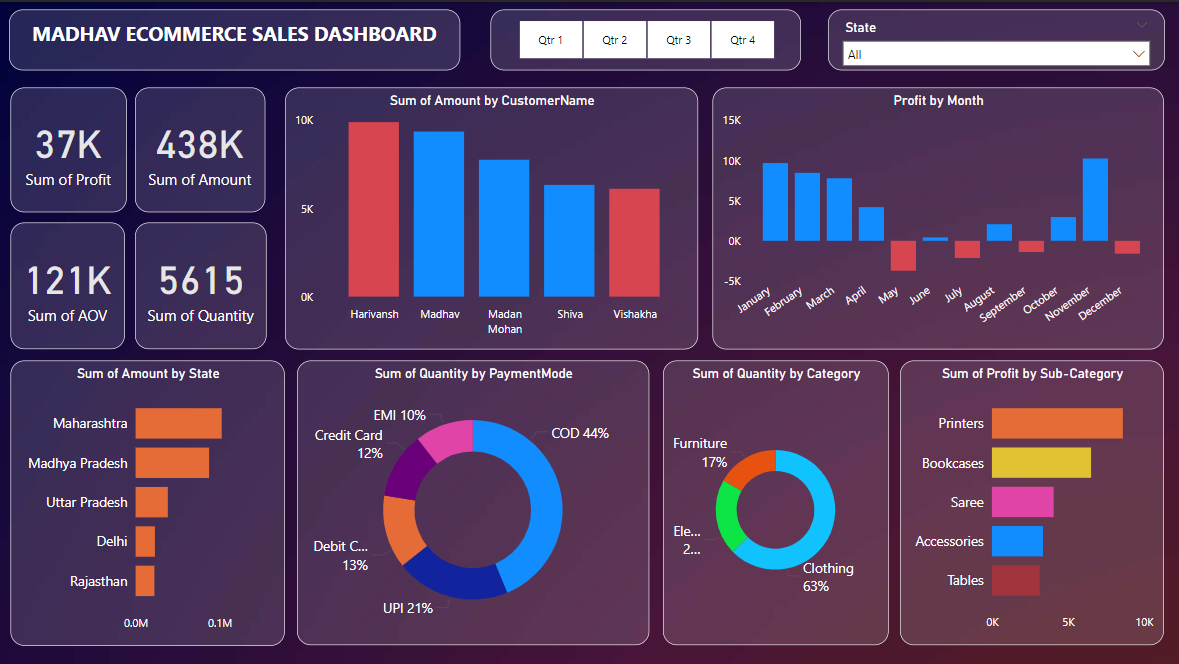

The dashboard page shown, as its layout file describes it:
{"tool":"powerbi","page":{"name":"Page 1","canvas":[1280,720],"ordinal":0},"visuals":[{"type":"textbox","box":[9.4,7.5,489.2,65.9],"z":0},{"type":"columnChart","title":"Profit by Month","fields":{"Category":["Orders.Order Date.Variation.Date Hierarchy.Month"],"Y":["Details.Profit"]},"box":[773.3,92.2,489.2,284.1],"z":1000},{"type":"barChart","fields":{"Category":["Details.Sub-Category"],"Y":["Details.Profit"]},"box":[976.5,389.5,286,308.6],"z":2000},{"type":"donutChart","fields":{"Category":["Details.Category"],"Y":["Details.Quantity"]},"box":[718.7,389.5,244.6,308.6],"z":3000},{"type":"donutChart","fields":{"Category":["Details.PaymentMode"],"Y":["Details.Quantity"]},"box":[321.7,389.5,381.9,308.6],"z":4000},{"type":"card","fields":{"Values":["Details.Amount"]},"box":[146.8,92.2,141.1,135.5],"z":5000},{"type":"card","fields":{"Values":["Details.Quantity"]},"box":[146.8,238.9,143,137.3],"z":6000},{"type":"card","fields":{"Values":["Details.Profit"]},"box":[11.3,92.2,126.1,135.5],"z":7000},{"type":"card","fields":{"Values":["Details.AOV"]},"box":[11.3,238.9,124.2,137.3],"z":8000},{"type":"barChart","fields":{"Category":["Orders.State"],"Y":["Details.Amount"]},"box":[11.4,388.7,297.7,309],"z":9000},{"type":"columnChart","fields":{"Category":["Orders.CustomerName"],"Y":["Details.Amount"]},"box":[308.6,92.2,447.8,284.1],"z":10000},{"type":"slicer","fields":{"Values":["Orders.Order Date.Variation.Date Hierarchy.Quarter"]},"box":[532.4,7.5,336.8,65.9],"z":11000},{"type":"slicer","fields":{"Values":["Orders.State"]},"box":[897.4,7.5,365,65.9],"z":12000}]}

Visuals, with their boxes in screenshot pixels (x1, y1, x2, y2), scaled from the page's 1280x720 canvas onto the 1179x664 screenshot:
textbox: bbox=(9, 7, 459, 68)
"Profit by Month" columnChart: bbox=(712, 85, 1163, 347)
barChart - Details.Sub-Category x Details.Profit: bbox=(899, 359, 1163, 644)
donutChart - Details.Category x Details.Quantity: bbox=(662, 359, 887, 644)
donutChart - Details.PaymentMode x Details.Quantity: bbox=(296, 359, 648, 644)
card - Details.Amount: bbox=(135, 85, 265, 210)
card - Details.Quantity: bbox=(135, 220, 267, 347)
card - Details.Profit: bbox=(10, 85, 127, 210)
card - Details.AOV: bbox=(10, 220, 125, 347)
barChart - Orders.State x Details.Amount: bbox=(11, 358, 285, 643)
columnChart - Orders.CustomerName x Details.Amount: bbox=(284, 85, 697, 347)
slicer - Orders.Order Date.Variation.Date Hierarchy.Quarter: bbox=(490, 7, 801, 68)
slicer - Orders.State: bbox=(827, 7, 1163, 68)
